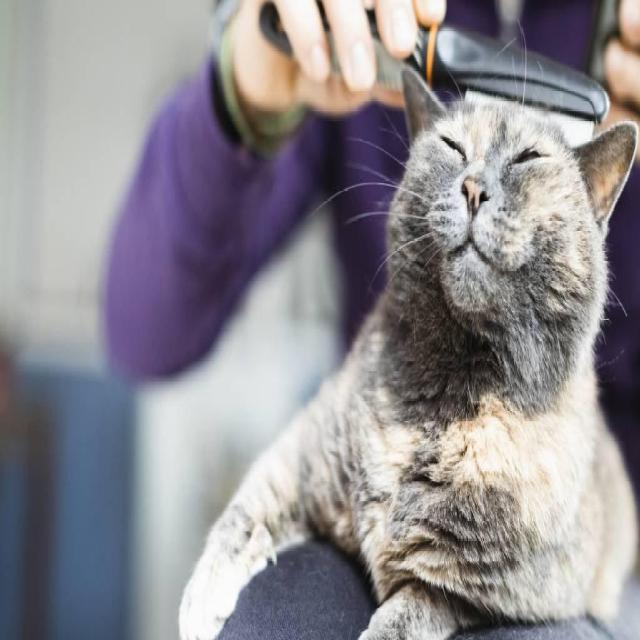Cat: (385, 59, 640, 374)
